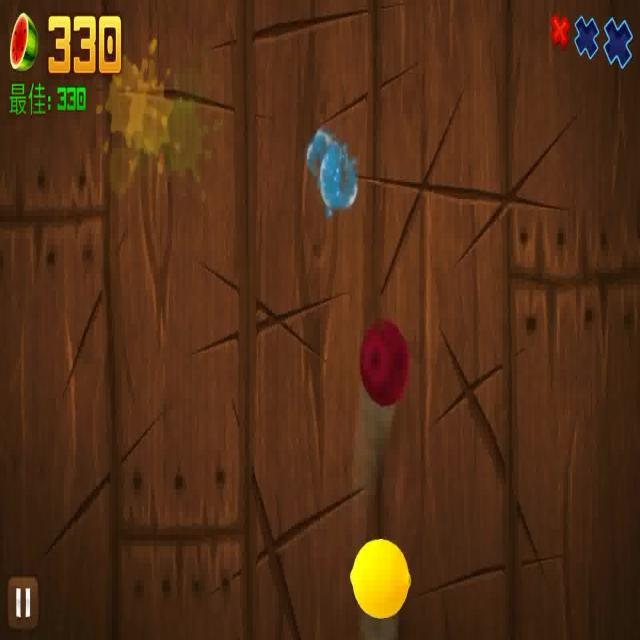fruit: (346, 541, 410, 610), (360, 318, 410, 402)
